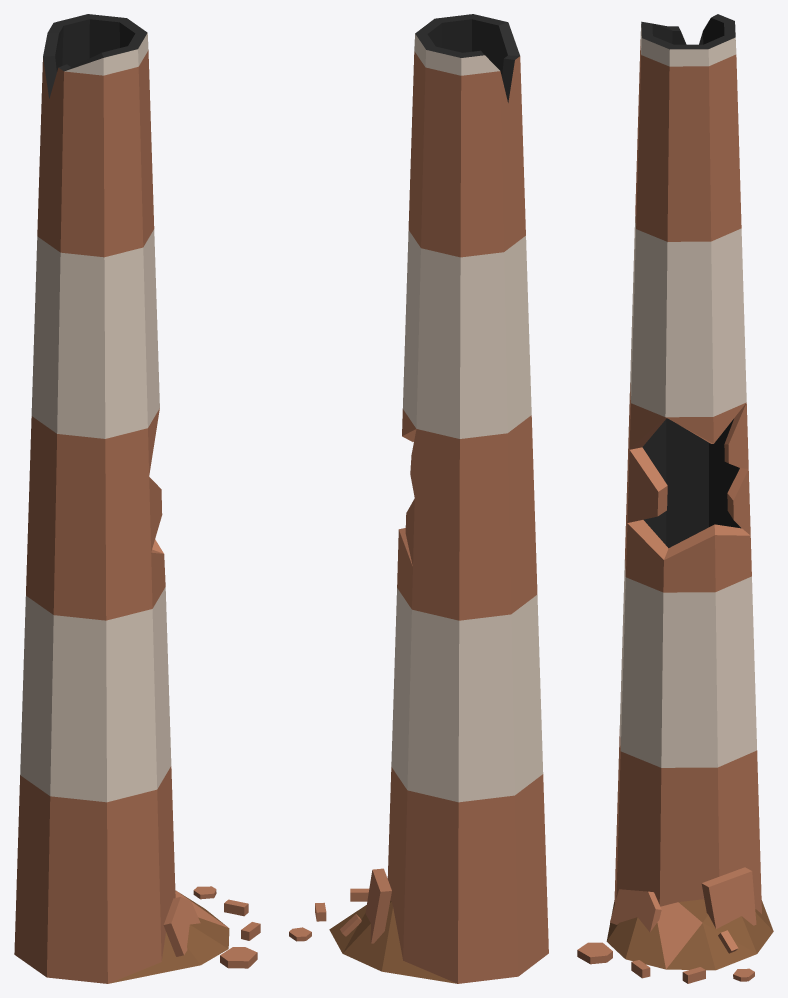
File: apocalypse_chimney-big-demaged.fbx
3 views of the same model, side by side, from view 1: azimuth 30°, elevation 25°; view 2: azimuth 150°, elevation 25°; view 3: azimuth 270°, elevation 25° (orthographic). The views are drawn at different scales.
Visible parts, largest first — view 1: apocalypse_chimney_big_demaged; view 2: apocalypse_chimney_big_demaged; view 3: apocalypse_chimney_big_demaged.
Part boxes in pixels (x1,y1,x2,y2): apocalypse_chimney_big_demaged: [14, 14, 260, 983]; apocalypse_chimney_big_demaged: [289, 14, 548, 983]; apocalypse_chimney_big_demaged: [577, 14, 773, 983].
Bounding box in the file's own units: 50.12 × 200 × 40.35.
